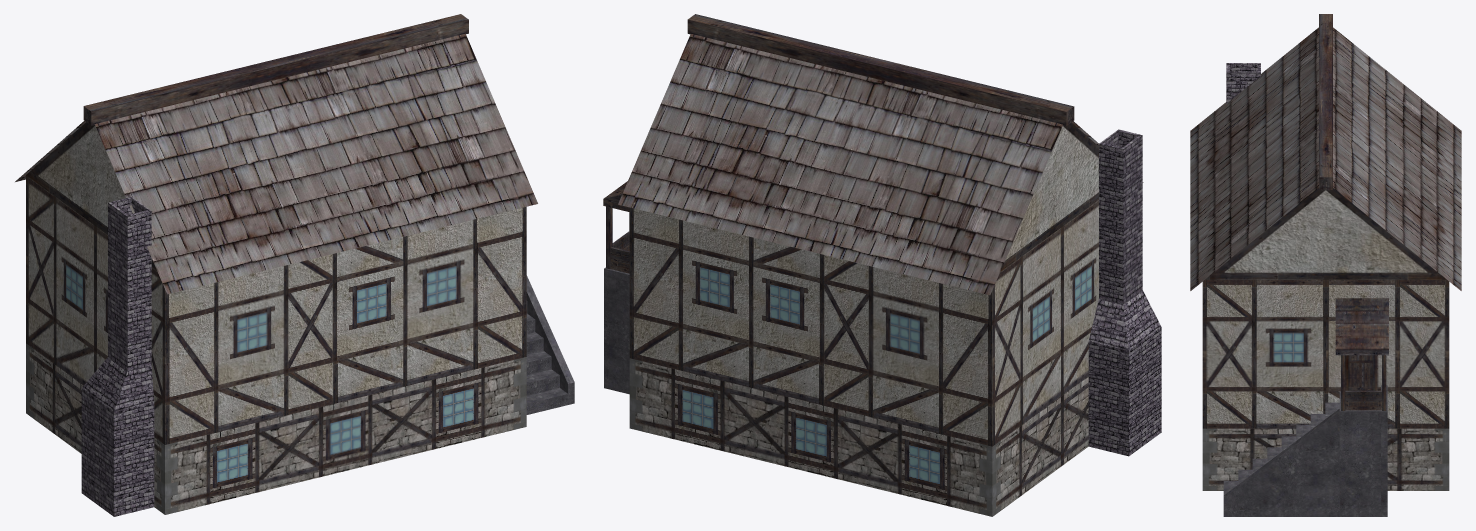
File: MedievalHouse_001.dae
3 views of the same model, side by side, from view 1: azimuth 30°, elevation 25°; view 2: azimuth 150°, elevation 25°; view 3: azimuth 270°, elevation 25° (orthographic). The views are drawn at different scales.
Parts seen in each view (by area): view 1: MedievalHouse_001; view 2: MedievalHouse_001; view 3: MedievalHouse_001.
Boxes of the visible parts, <box> form: MedievalHouse_001: <box>15,14,574,516</box>; MedievalHouse_001: <box>603,14,1161,516</box>; MedievalHouse_001: <box>1190,14,1461,516</box>.
Bounding box in the file's own units: 69 × 39.6 × 51.
